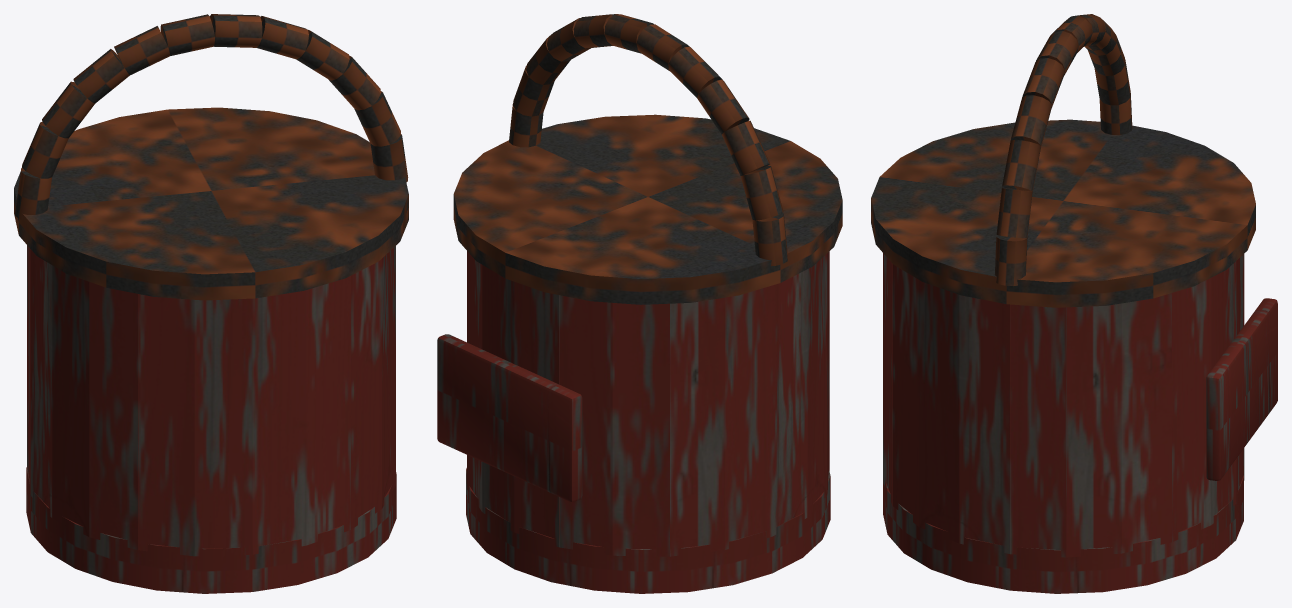
Rendered from SM_PaintCan_Closed_ddc79d1173.fbx.
3 renders of one model, left to right at view 1: azimuth 30°, elevation 25°; view 2: azimuth 150°, elevation 25°; view 3: azimuth 270°, elevation 25°, orthographic. The views are drawn at different scales.
Visible parts, largest first — view 1: SM_PaintCan_Closed_ddc79d1173; view 2: SM_PaintCan_Closed_ddc79d1173; view 3: SM_PaintCan_Closed_ddc79d1173.
Part boxes in pixels (x1,y1,x2,y2): SM_PaintCan_Closed_ddc79d1173: (14,14,408,593); SM_PaintCan_Closed_ddc79d1173: (437,14,842,593); SM_PaintCan_Closed_ddc79d1173: (871,14,1277,593).
Size of what is drawn, in the model's own units: 19.17 by 20.25 by 26.79.
Materials: 2 (2 with a texture image).
